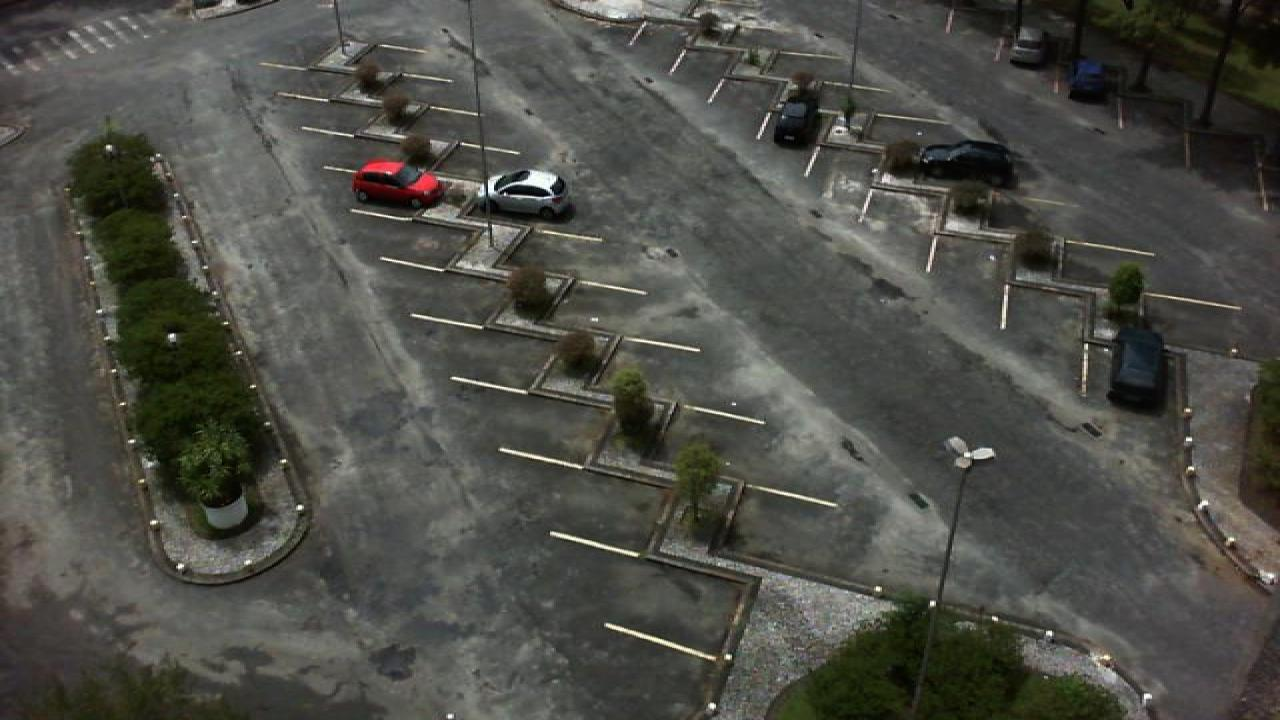Car: (1104, 324, 1168, 407), (482, 167, 576, 221), (350, 158, 444, 210), (914, 140, 1014, 185), (772, 93, 820, 148), (1068, 57, 1108, 100), (1010, 24, 1048, 68)
